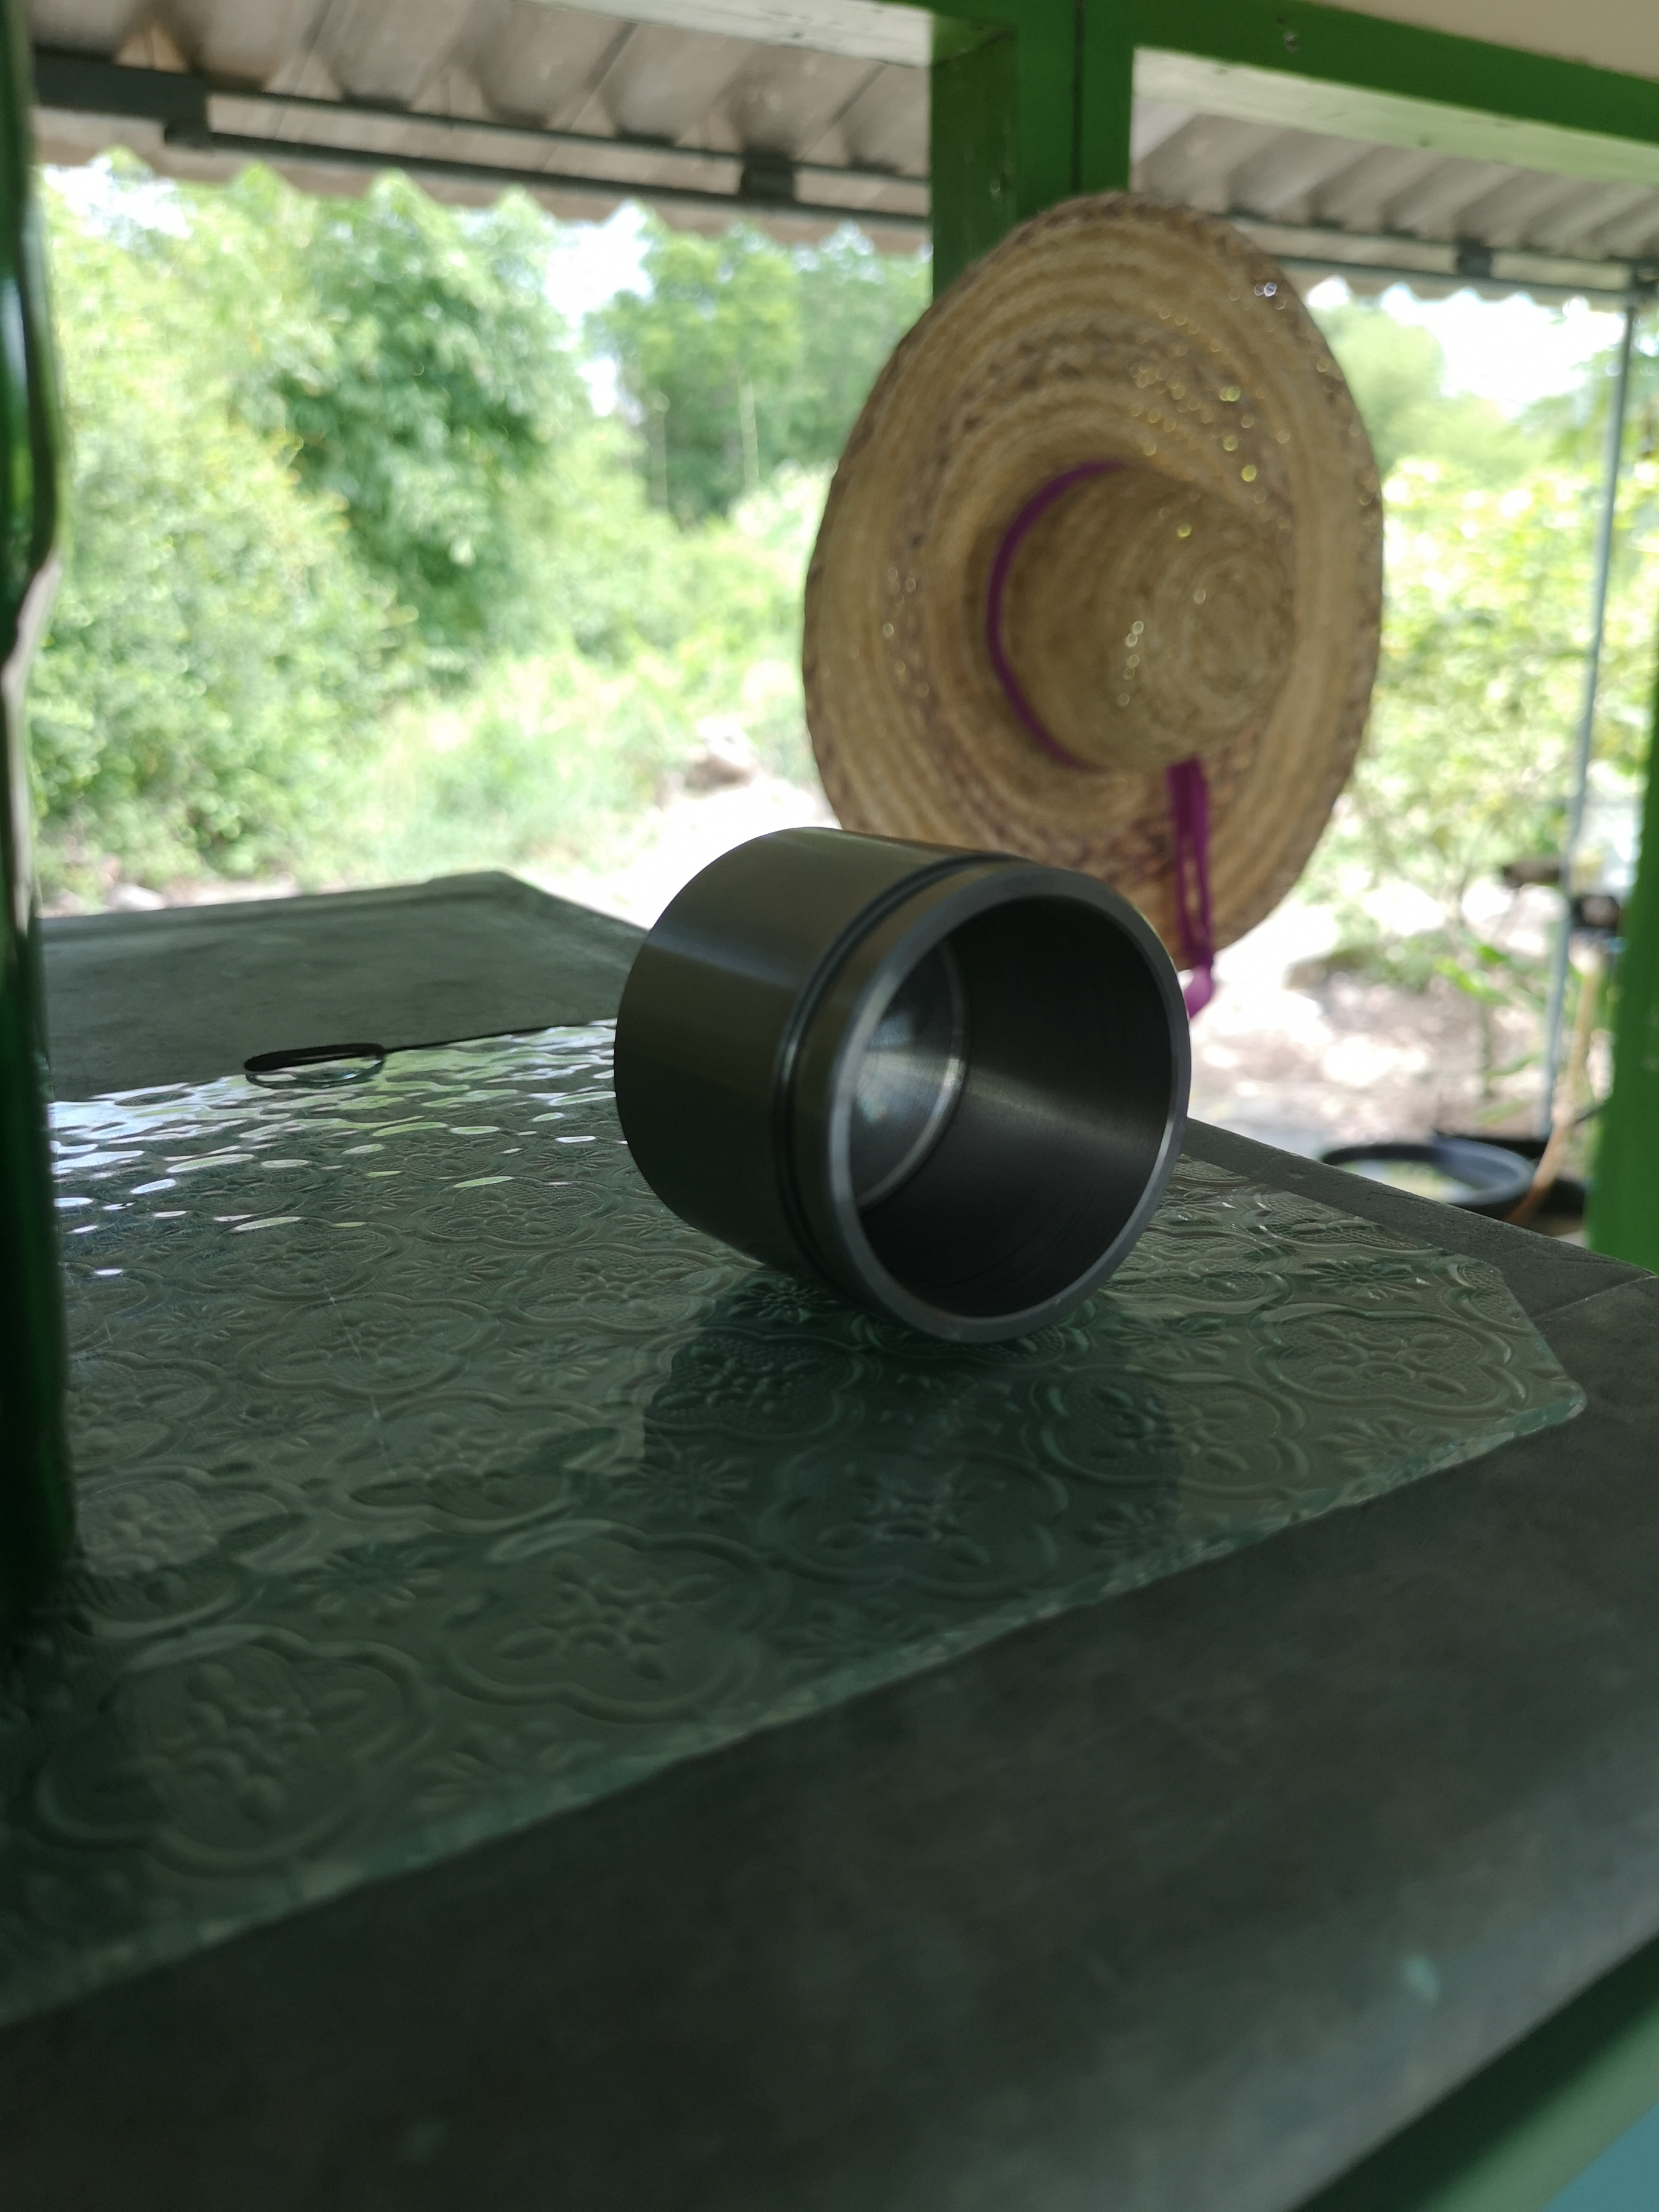ลูกสูบดิสเบรค: (592, 808, 1166, 1379)
